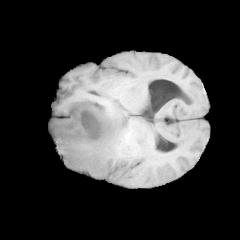glioma: (52, 99, 129, 174)
